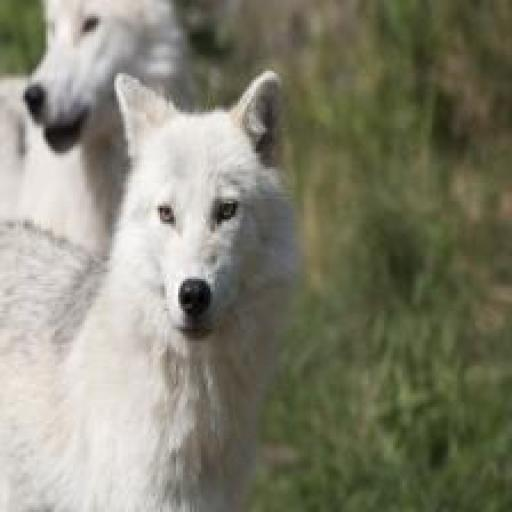wolf: (0, 73, 299, 510), (2, 2, 198, 249)
